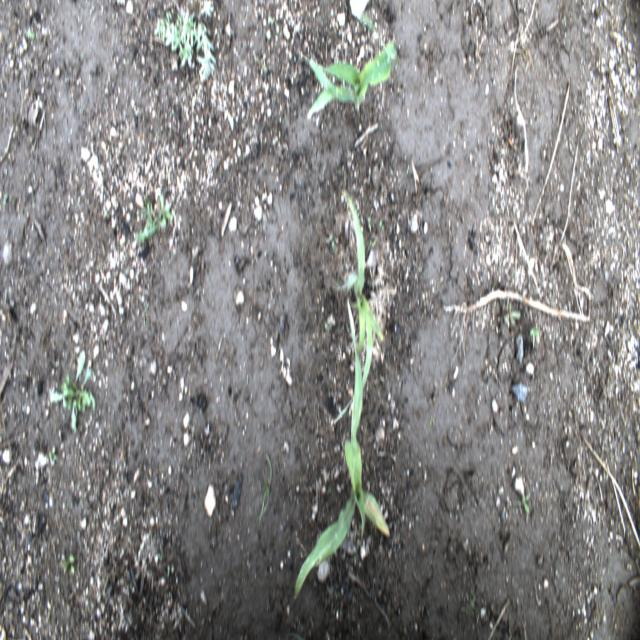crop: (292, 303, 395, 596), (334, 184, 384, 421), (306, 38, 398, 116), (348, 0, 374, 28)
weed: (152, 9, 218, 80), (48, 343, 98, 427), (137, 193, 176, 247), (58, 550, 77, 581), (506, 302, 520, 336), (516, 486, 532, 513), (530, 316, 540, 351)
